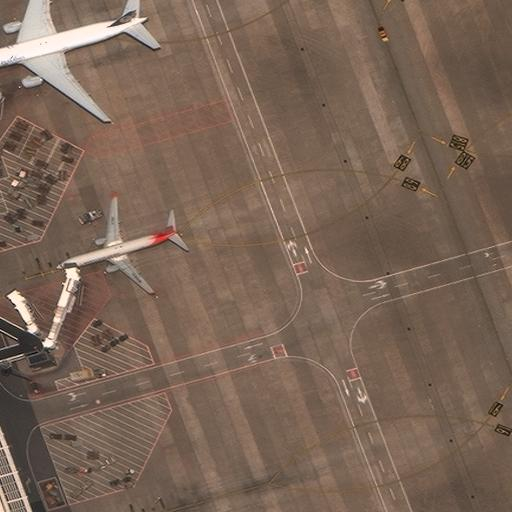Large Civil Transport: (0, 0, 149, 122), (55, 193, 179, 294)
